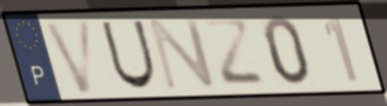0: (261, 12, 313, 89)
1: (321, 13, 360, 84)
N: (145, 15, 219, 92)
U: (98, 18, 160, 92)
V: (40, 17, 96, 96)
Z: (200, 17, 269, 88)
